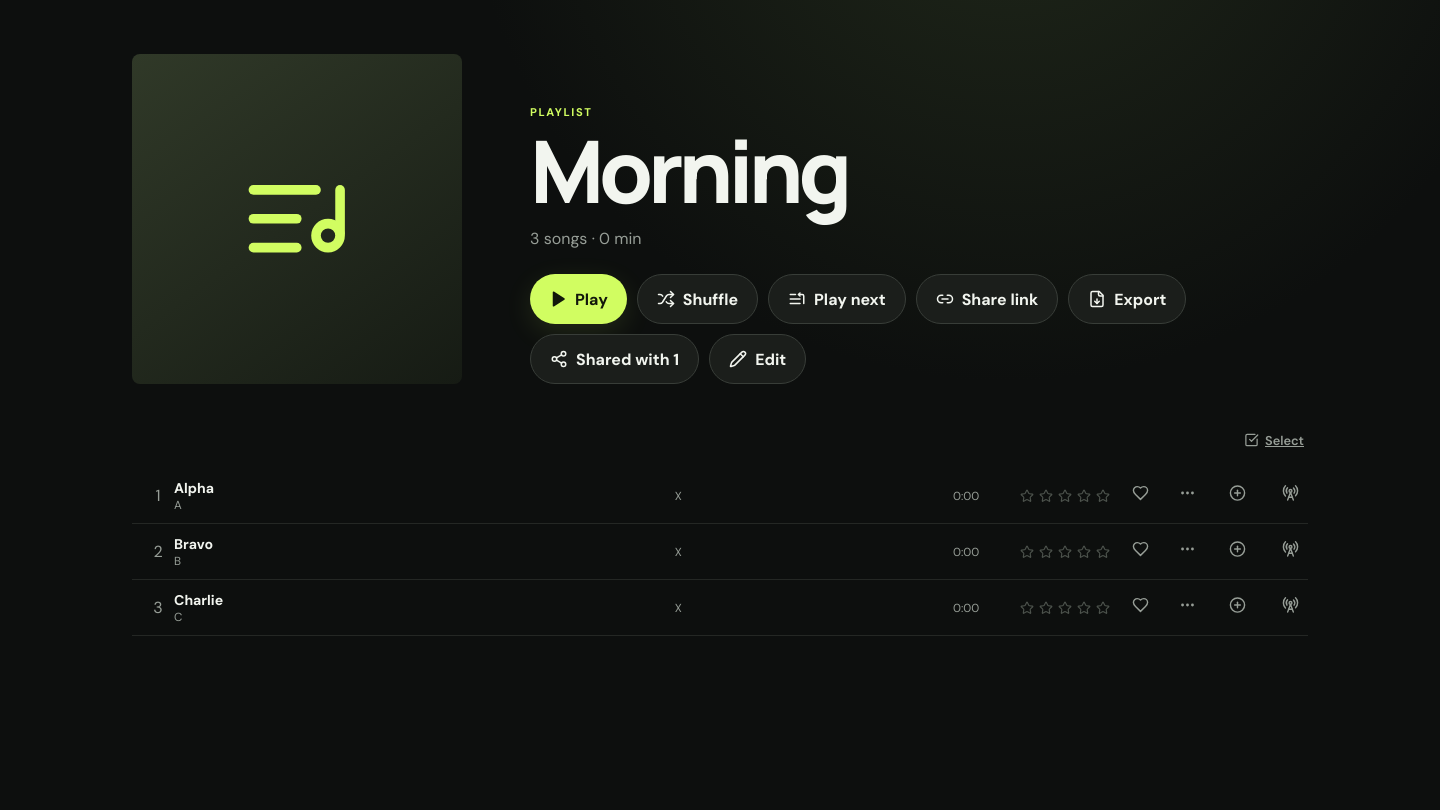
Scenario: PlaylistDetail editing › moves a track down and saves the new order
Step 1. Click the button "Edit" → (758, 359), box [709,334,806,384]
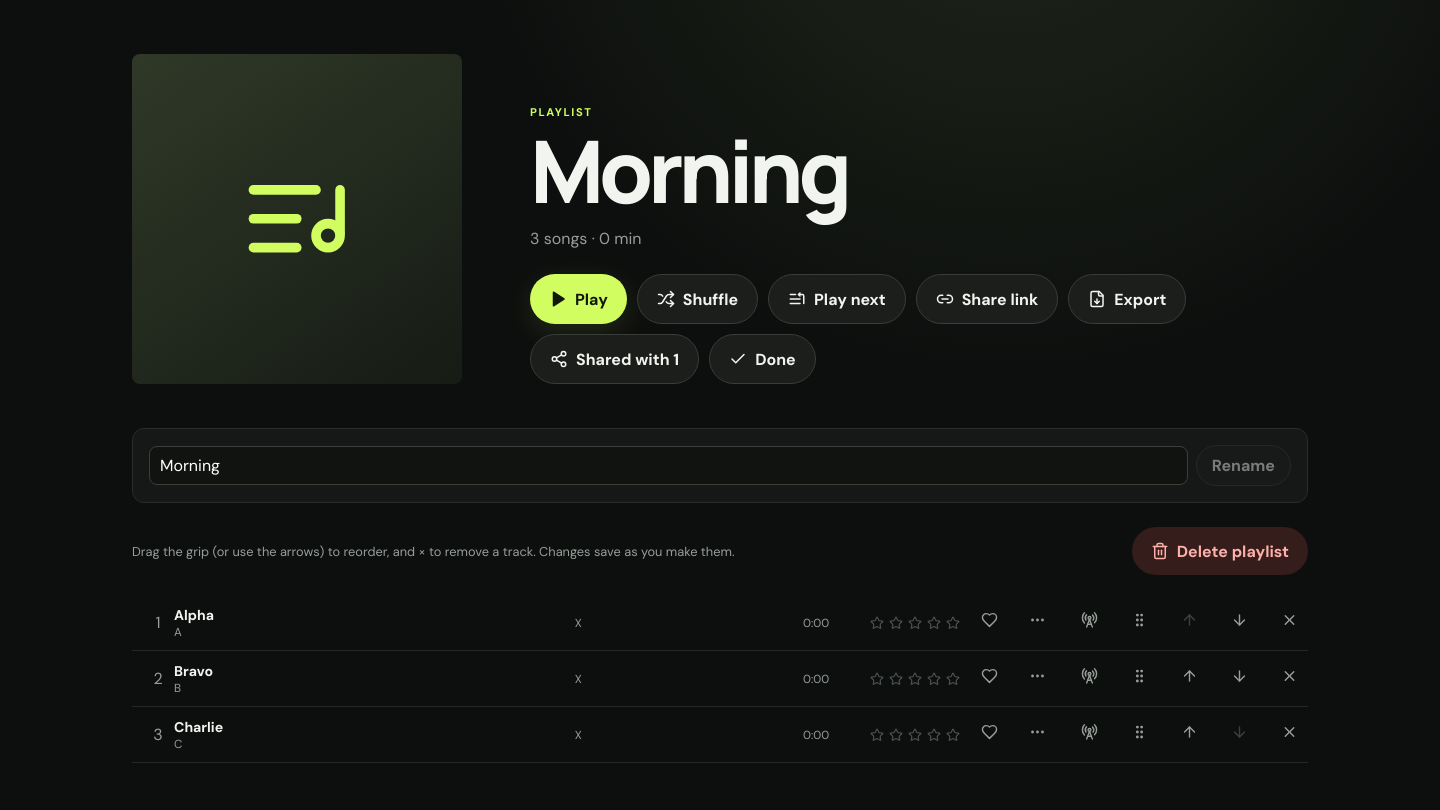
Step 2. Click the button named "Move Alpha down" → (1240, 622), box [1222,601,1258,644]
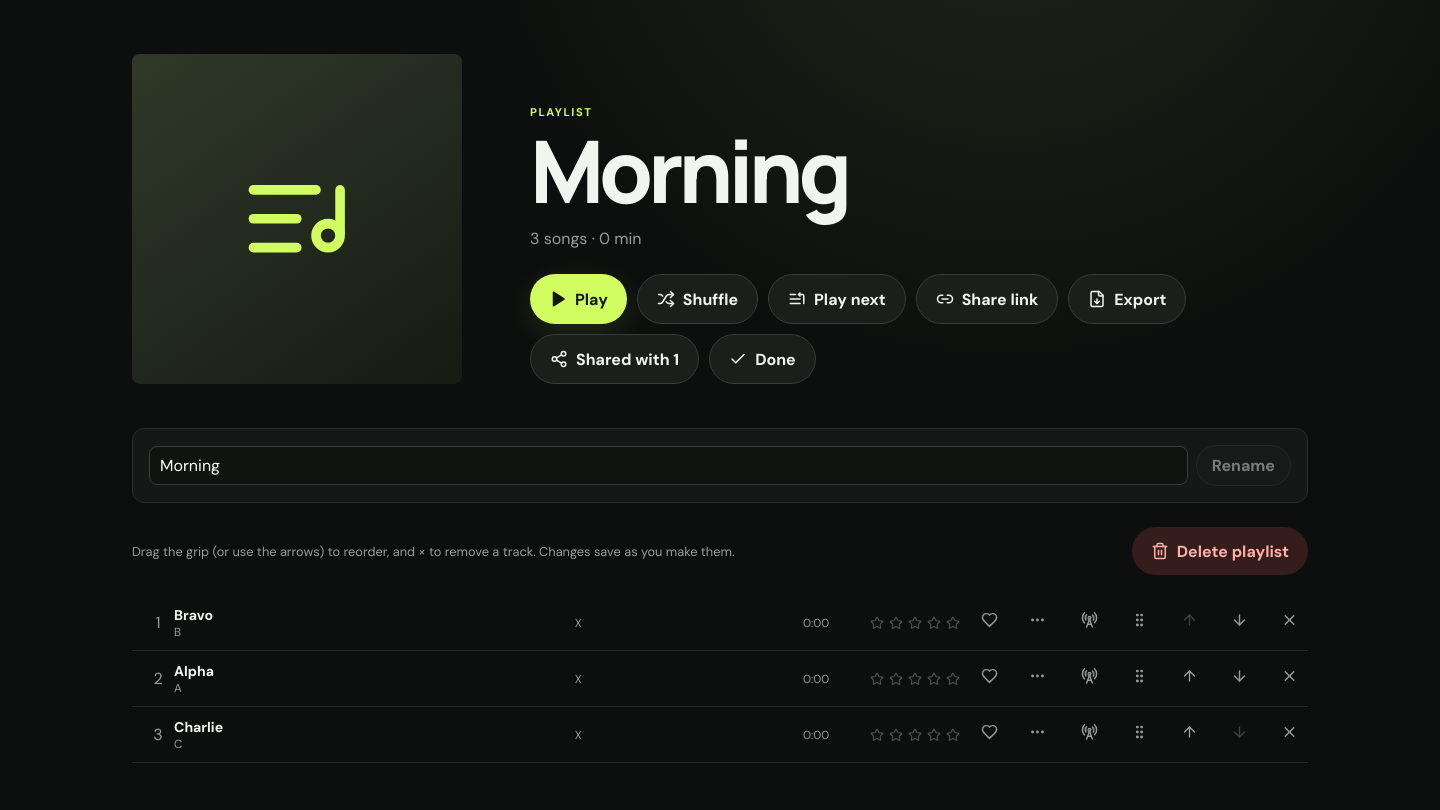
Expected: the button named "Move Bravo up" is disabled, [1172,601,1208,644]
Expected: the list item "1 Bravo B X 0:00" is shown, [132,595,1308,651]
